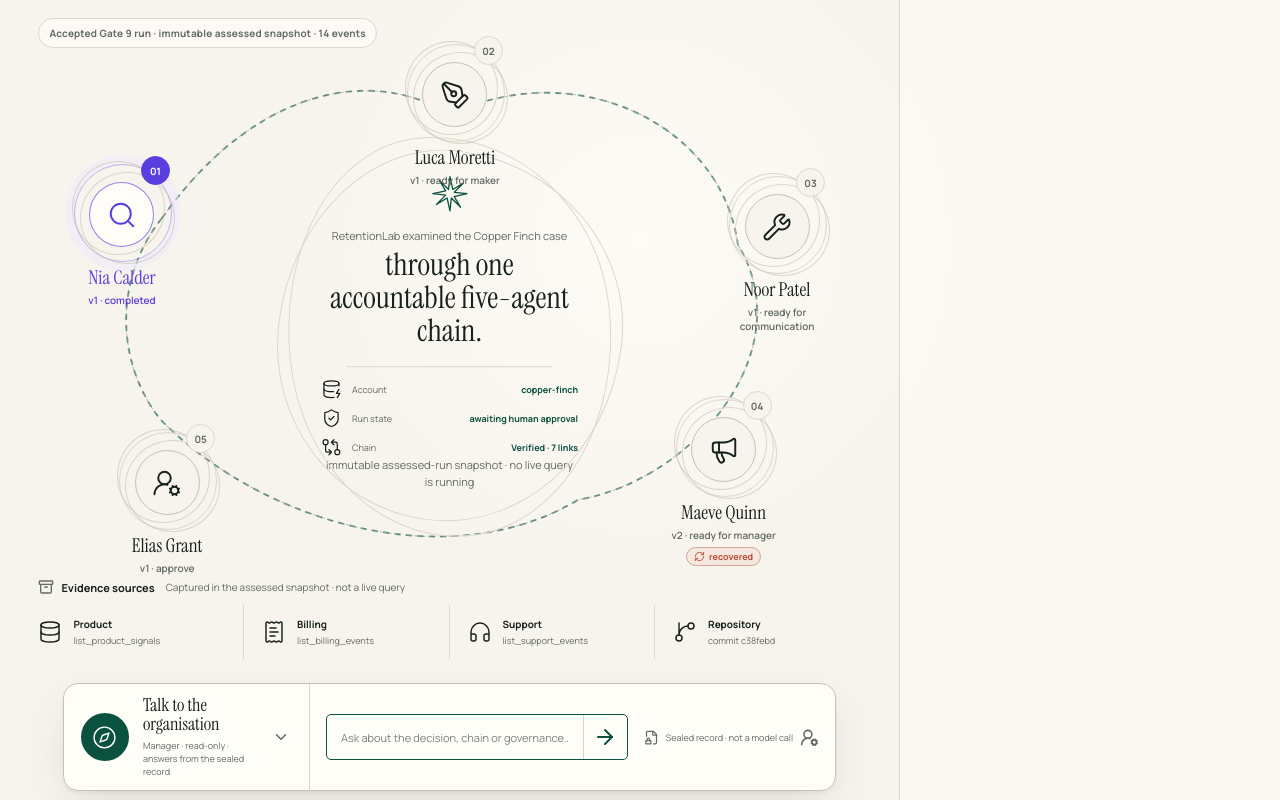
OrganisationView — assessed Gate 9 run › meaningfully updates the detail surface when a different stage is selected
This screenshot has width=1280, height=800.
Expected: the text "Trust evaluation" is not shown
Click the button "05 Elias Grant v1 · approve".
click(167, 500)  # box [104, 424, 230, 575]
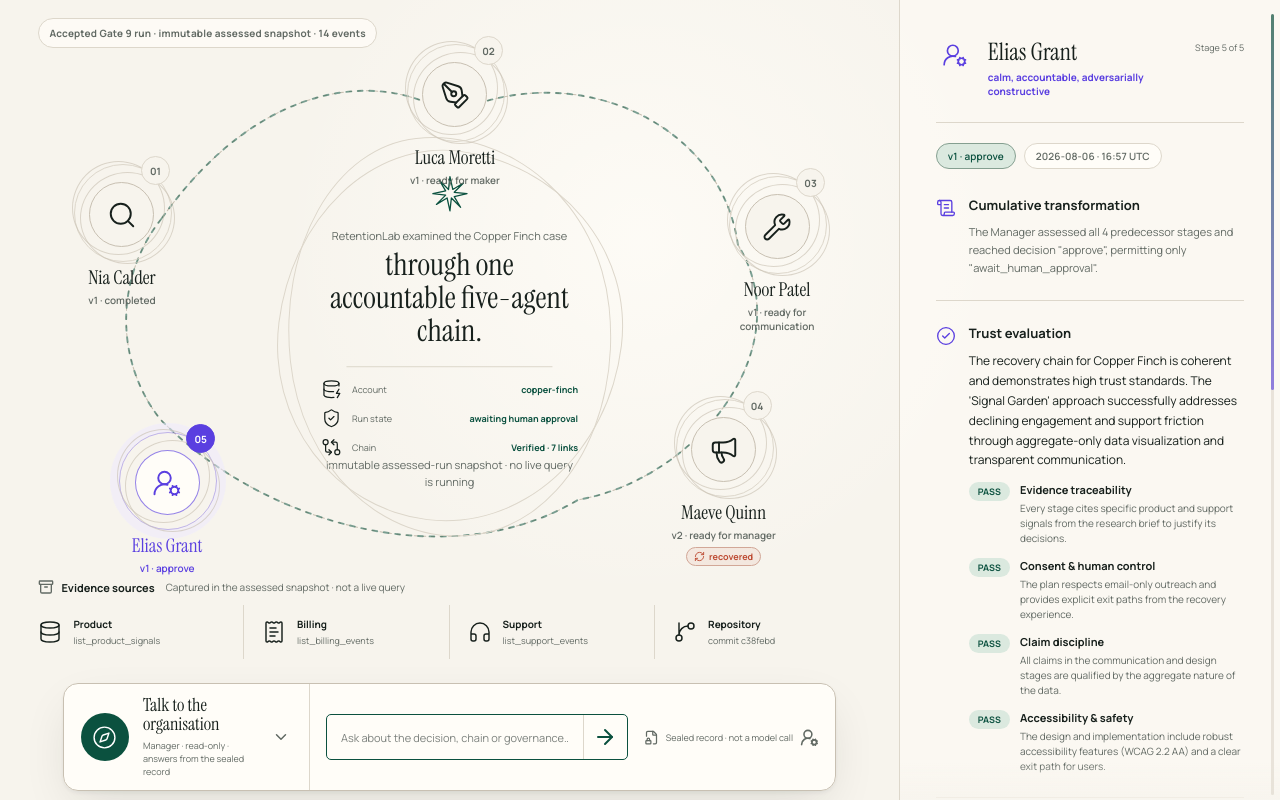
Expected: the heading "Trust evaluation" is shown, [969, 324, 1071, 342]
